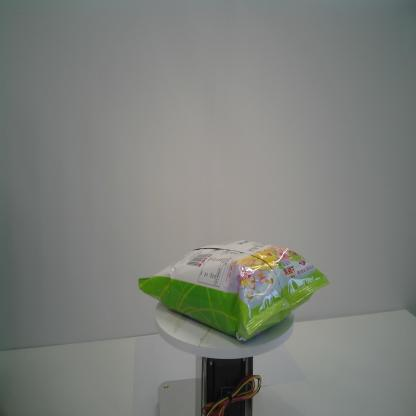Puffed Food: (138, 238, 332, 342)
